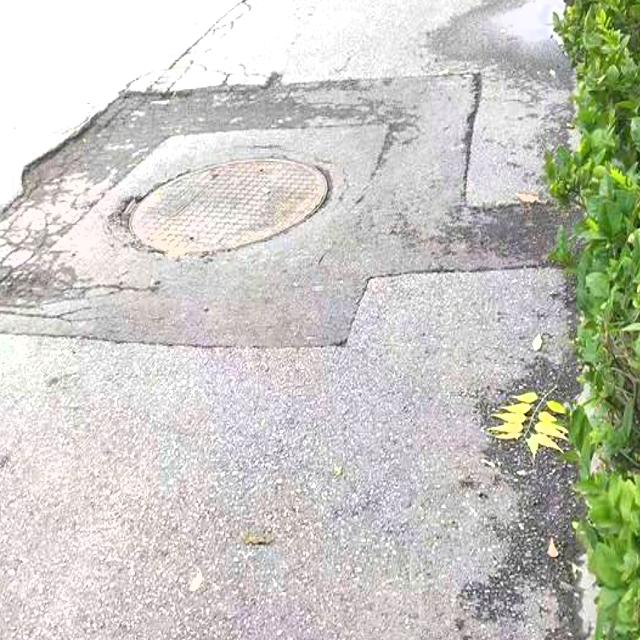circle: (0, 102, 464, 339)
